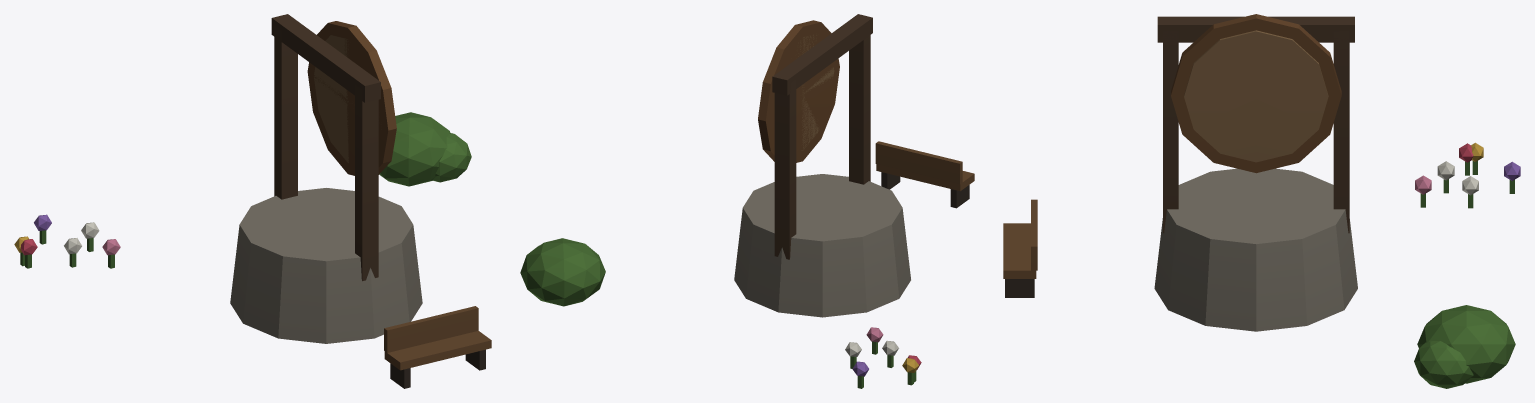
The model's file is well.glb.
The picture shows the model from 3 angles, left to right: view 1: azimuth 30°, elevation 25°; view 2: azimuth 150°, elevation 25°; view 3: azimuth 270°, elevation 25°; orthographic projection. The views are drawn at different scales.
Parts seen in each view (by area): view 1: well_model; view 2: well_model; view 3: well_model.
Boxes of the visible parts, x1,y1,x2,y2 form: well_model: [14, 14, 491, 388]; well_model: [520, 14, 974, 388]; well_model: [1003, 14, 1520, 388].
Bounding box in the file's own units: 0.8133 × 0.48 × 0.7874.
